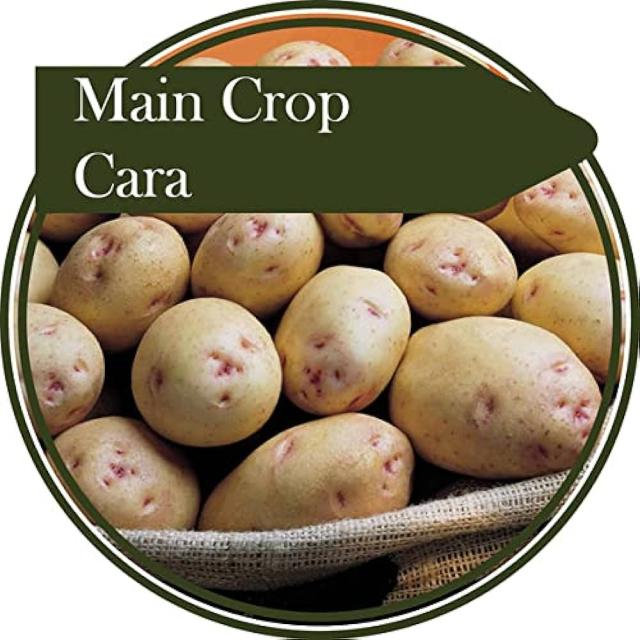Potato: (202, 405, 427, 567), (122, 279, 292, 459), (62, 218, 207, 326)
